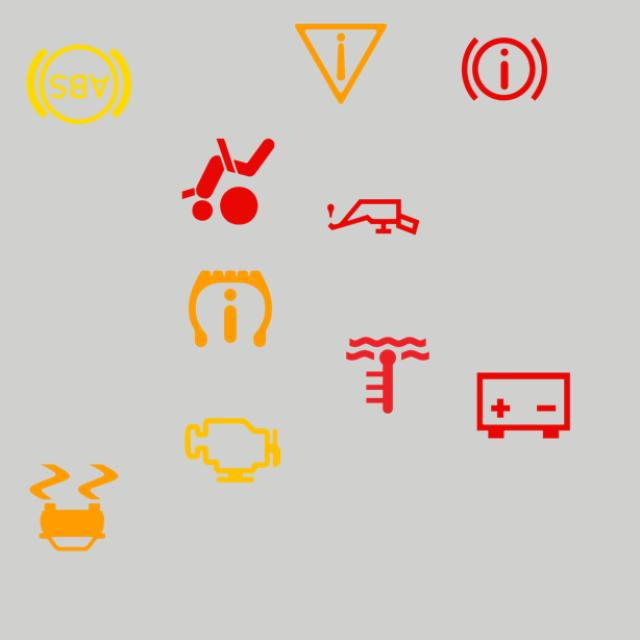Anti Lock Braking System: (22, 27, 136, 142)
Braking System Issue: (447, 12, 562, 126)
Charging System Issue: (466, 348, 581, 463)
Check Engine: (175, 393, 290, 508)
Electronic Stability Problem -ESP-: (17, 450, 131, 565)
Engine Overheating Warning Light: (331, 318, 445, 432)
Low Engine Oil Warning Light: (316, 160, 430, 274)
Low Tire Pressure Warning Light: (173, 251, 288, 366)
Master warning light: (284, 6, 398, 121)
SRS-Airbag: (171, 124, 286, 239)
